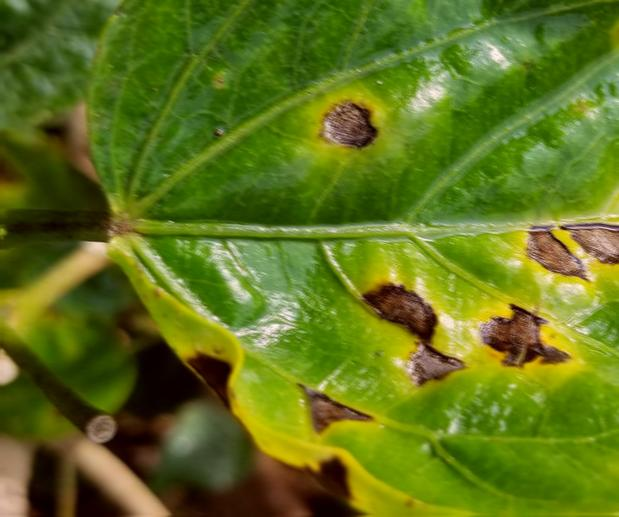Tomato leaf bacterial spot: (88, 0, 619, 517)
